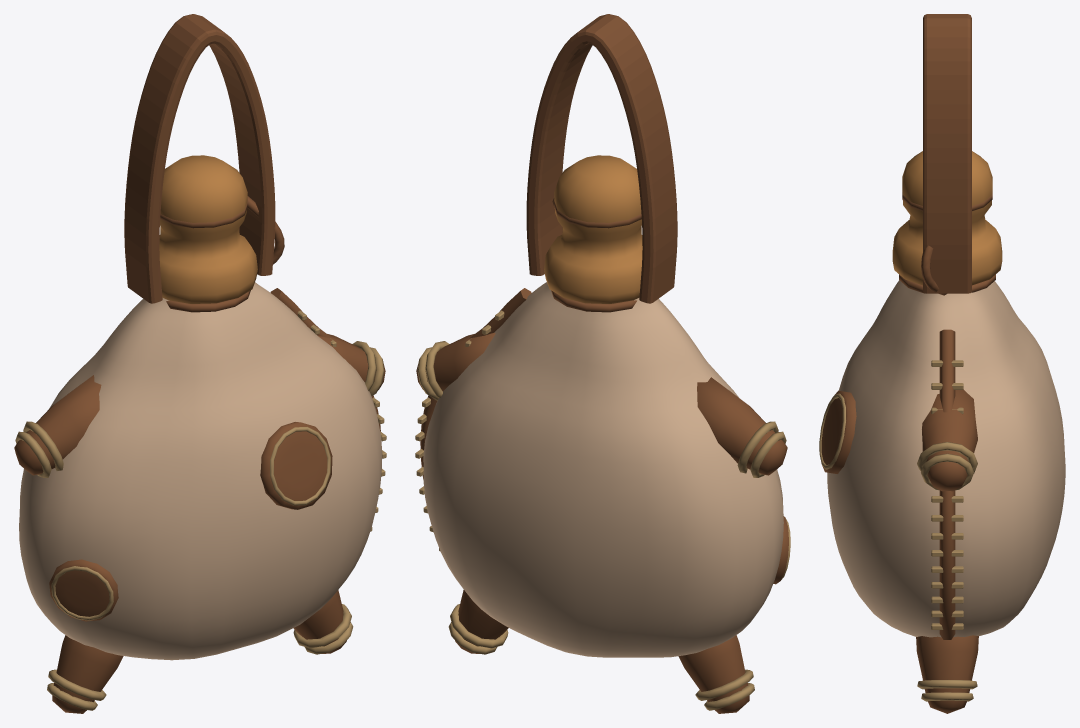
File: tool_waterskin.fbx
3 views of the same model, side by side, from view 1: azimuth 30°, elevation 25°; view 2: azimuth 150°, elevation 25°; view 3: azimuth 270°, elevation 25° (orthographic). The views are drawn at different scales.
Visible parts, largest first — view 1: Tool_WaterSkin_Body, Tool_WaterSkin_Strap, Tool_WaterSkin_Stopper, Tool_WaterSkin_Stubs, Tool_WaterSkin_Patches, Tool_WaterSkin_Lashings, Tool_WaterSkin_Seam; view 2: Tool_WaterSkin_Body, Tool_WaterSkin_Strap, Tool_WaterSkin_Stopper, Tool_WaterSkin_Stubs, Tool_WaterSkin_Lashings, Tool_WaterSkin_Seam; view 3: Tool_WaterSkin_Body, Tool_WaterSkin_Strap, Tool_WaterSkin_Stubs, Tool_WaterSkin_Stopper, Tool_WaterSkin_Seam, Tool_WaterSkin_Lashings, Tool_WaterSkin_Patches.
Part boxes in pixels (<box>): Tool_WaterSkin_Body: <box>19,282,382,660</box>; Tool_WaterSkin_Strap: <box>124,14,275,303</box>; Tool_WaterSkin_Stopper: <box>159,155,257,303</box>; Tool_WaterSkin_Stubs: <box>14,334,385,713</box>; Tool_WaterSkin_Patches: <box>49,422,332,621</box>; Tool_WaterSkin_Lashings: <box>15,196,384,710</box>; Tool_WaterSkin_Seam: <box>270,288,386,531</box>; Tool_WaterSkin_Body: <box>423,282,783,657</box>; Tool_WaterSkin_Strap: <box>526,14,677,303</box>; Tool_WaterSkin_Stopper: <box>544,155,642,303</box>; Tool_WaterSkin_Stubs: <box>416,332,787,713</box>; Tool_WaterSkin_Lashings: <box>417,198,786,710</box>; Tool_WaterSkin_Seam: <box>415,288,531,551</box>; Tool_WaterSkin_Body: <box>827,280,1065,637</box>; Tool_WaterSkin_Strap: <box>923,14,971,293</box>; Tool_WaterSkin_Stubs: <box>916,389,978,713</box>; Tool_WaterSkin_Stopper: <box>892,151,1002,285</box>; Tool_WaterSkin_Seam: <box>931,329,963,639</box>; Tool_WaterSkin_Lashings: <box>899,191,995,701</box>; Tool_WaterSkin_Patches: <box>819,390,856,473</box>.
Bounding box in the file's own units: 24.75 × 43.08 × 15.12.
